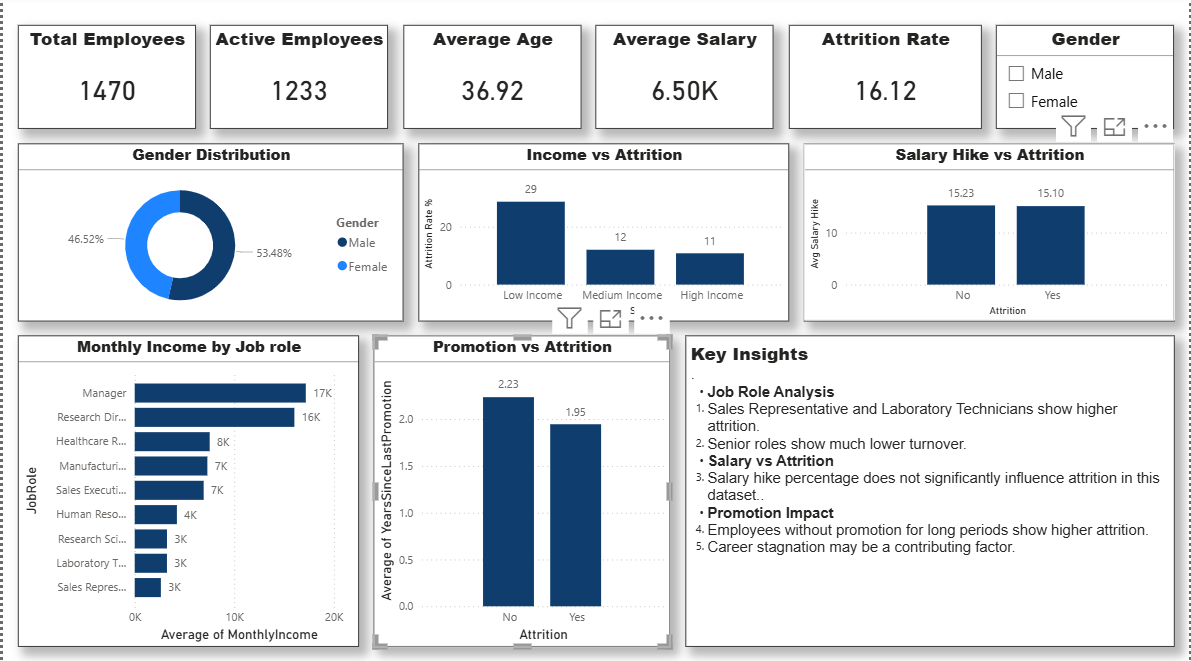

This screenshot's page, from the dashboard's own definition file:
{"tool":"powerbi","page":{"name":"Salary and Experience Analysis","canvas":[1280,720],"ordinal":2},"visuals":[{"type":"card","title":"Total Employees","fields":{"Values":["HR Attrition.Total_Employees"]},"box":[16,32,192,112],"z":0},{"type":"card","title":"Active Employees","fields":{"Values":["HR Attrition.Active Employees"]},"box":[224,32,192,112],"z":1},{"type":"card","title":"Average Age","fields":{"Values":["HR Attrition.Average Age"]},"box":[432,32,192,112],"z":2},{"type":"card","title":"Average Salary","fields":{"Values":["HR Attrition.Average Salary"]},"box":[640,32,192,112],"z":3},{"type":"card","title":"Attrition Rate","fields":{"Values":["HR Attrition.Attrition Rate %"]},"box":[848,32,208,112],"z":4},{"type":"slicer","title":"Gender ","fields":{"Values":["HR Attrition.Gender"]},"box":[1072,32,192,112],"z":5},{"type":"donutChart","title":"Gender Distribution","fields":{"Category":["HR Attrition.Gender"],"Y":["HR Attrition.Attrition Rate %"]},"box":[16,160,416,192],"z":6},{"type":"clusteredBarChart","title":"Monthly Income by Job role","fields":{"Category":["HR Attrition.JobRole"],"Y":["Avg(HR Attrition.MonthlyIncome)"]},"box":[16,368,368,336],"z":7},{"type":"clusteredColumnChart","title":"Income vs Attrition","fields":{"Category":["HR Attrition.Income Slab"],"Y":["HR Attrition.Attrition Rate %"]},"box":[448,160,400,192],"z":8},{"type":"clusteredColumnChart","title":"Promotion vs Attrition","fields":{"Y":["Avg(HR Attrition.YearsSinceLastPromotion)"],"Category":["HR Attrition.Attrition"]},"box":[400,368,320,336],"z":9},{"type":"clusteredColumnChart","title":"Salary Hike vs Attrition","fields":{"Category":["HR Attrition.Attrition"],"Y":["HR Attrition.Avg Salary Hike"]},"box":[864,160,400,192],"z":10},{"type":"textbox","box":[736,368,528,336],"z":11}]}

Visuals, with their boxes in screenshot pixels (x1, y1, x2, y2), scaled from the page's 1280x720 canvas onto the 1191x661 screenshot:
"Total Employees" card: 15 29 194 132
"Active Employees" card: 208 29 387 132
"Average Age" card: 402 29 581 132
"Average Salary" card: 596 29 774 132
"Attrition Rate" card: 789 29 983 132
"Gender " slicer: 997 29 1176 132
"Gender Distribution" donutChart: 15 147 402 323
"Monthly Income by Job role" clusteredBarChart: 15 338 357 646
"Income vs Attrition" clusteredColumnChart: 417 147 789 323
"Promotion vs Attrition" clusteredColumnChart: 372 338 670 646
"Salary Hike vs Attrition" clusteredColumnChart: 804 147 1176 323
textbox: 685 338 1176 646
